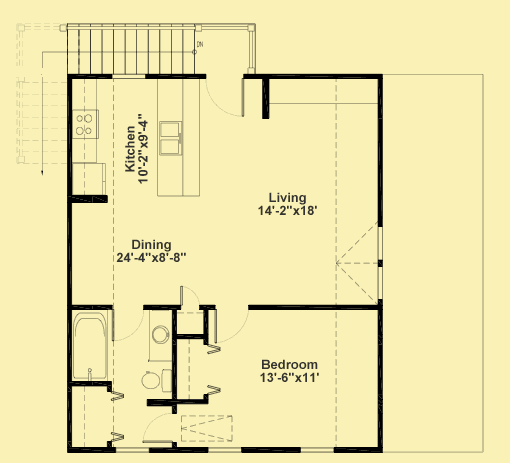door: (204, 73, 246, 118), (111, 303, 145, 345), (213, 305, 248, 345), (139, 412, 172, 445), (177, 284, 202, 310)
large_sink: (133, 367, 171, 395)
small_sink: (146, 308, 173, 364)
stairs: (65, 20, 204, 74)
tub: (70, 310, 111, 382)
twin_sink: (159, 120, 181, 159)
window: (375, 227, 386, 300), (204, 444, 242, 455)
